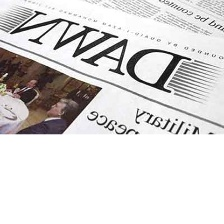news_paper: (0, 0, 224, 136)
